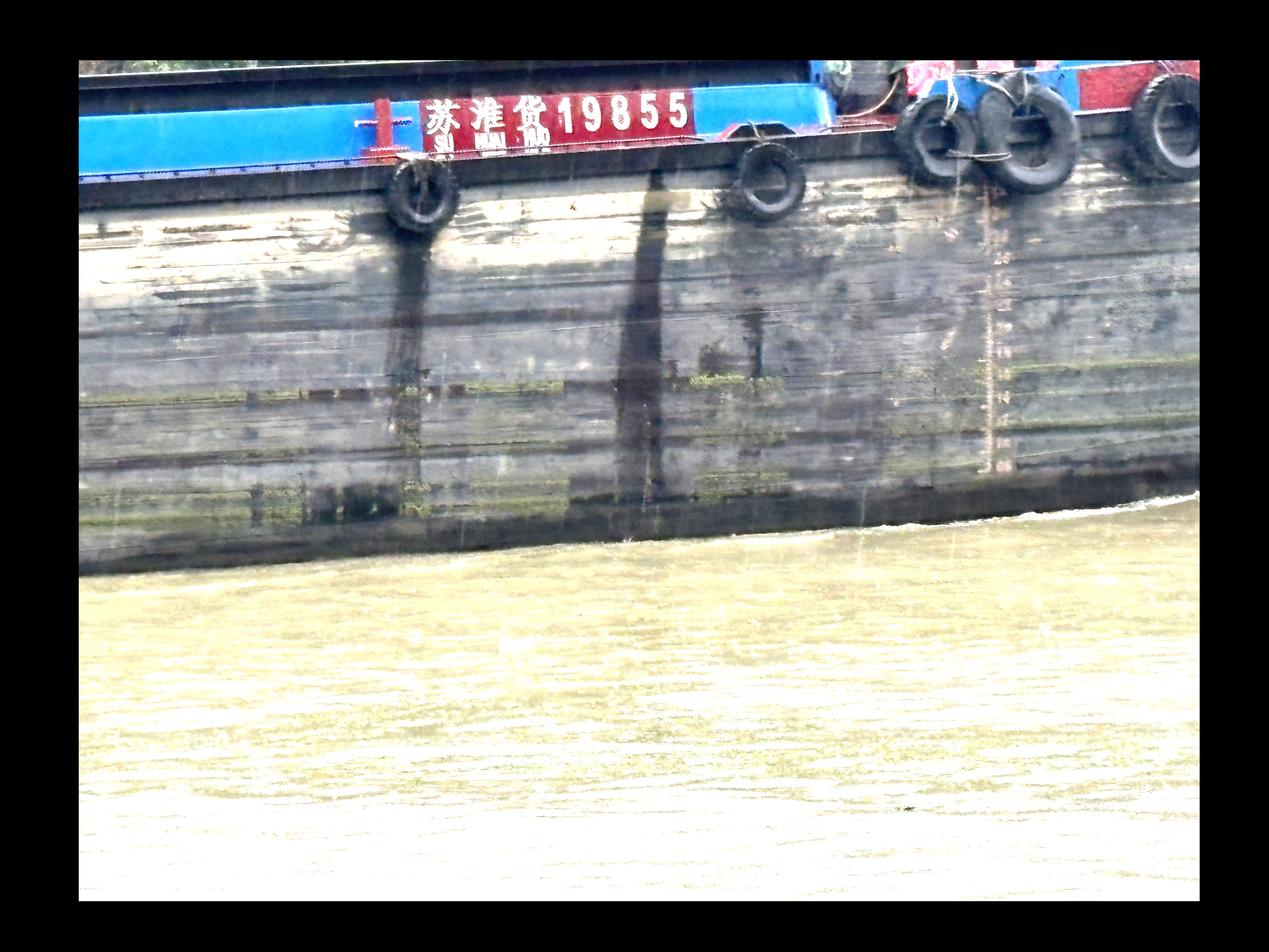Plastic wastes: (497, 634, 539, 648), (893, 800, 915, 815)
